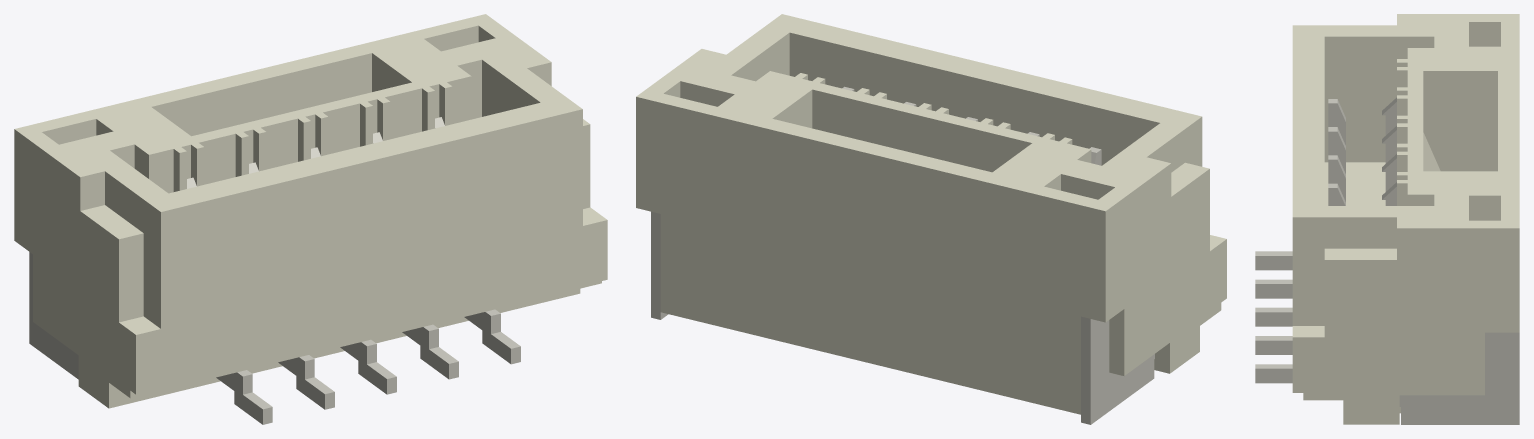
The model's file is kc-jst_gh_bm05b-ghs-tbt_1x05-1mp_p1.25mm_vertical.glb.
3 views of the same model, side by side, from view 1: azimuth 30°, elevation 25°; view 2: azimuth 150°, elevation 25°; view 3: azimuth 270°, elevation 25° (orthographic). The views are drawn at different scales.
Visible parts, largest first — view 1: 0.75_0.75_0.5833333333333334_0, 0.6666666666666666_0.6666666666666666_0.5833333333333334_0.8; view 2: 0.75_0.75_0.5833333333333334_0, 0.6666666666666666_0.6666666666666666_0.5833333333333334_0.8; view 3: 0.75_0.75_0.5833333333333334_0, 0.6666666666666666_0.6666666666666666_0.5833333333333334_0.8.
Boxes of the visible parts, x1,y1,x2,y2 form: 0.75_0.75_0.5833333333333334_0: (14,14,607,408); 0.6666666666666666_0.6666666666666666_0.5833333333333334_0.8: (29,117,520,424); 0.75_0.75_0.5833333333333334_0: (636,14,1226,414); 0.6666666666666666_0.6666666666666666_0.5833333333333334_0.8: (651,86,1154,424); 0.75_0.75_0.5833333333333334_0: (1292,14,1519,424); 0.6666666666666666_0.6666666666666666_0.5833333333333334_0.8: (1255,97,1519,424).
Bounding box in the file's own units: 0.95 × 0.42 × 0.495.
